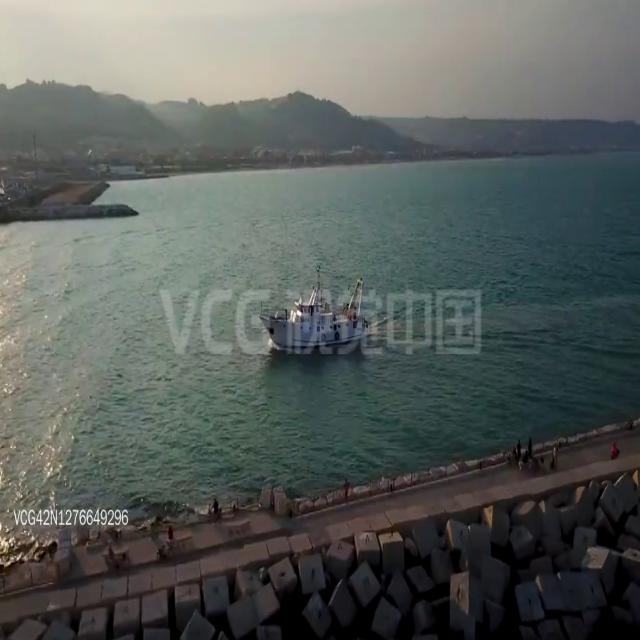houseboat: (256, 268, 369, 355)
